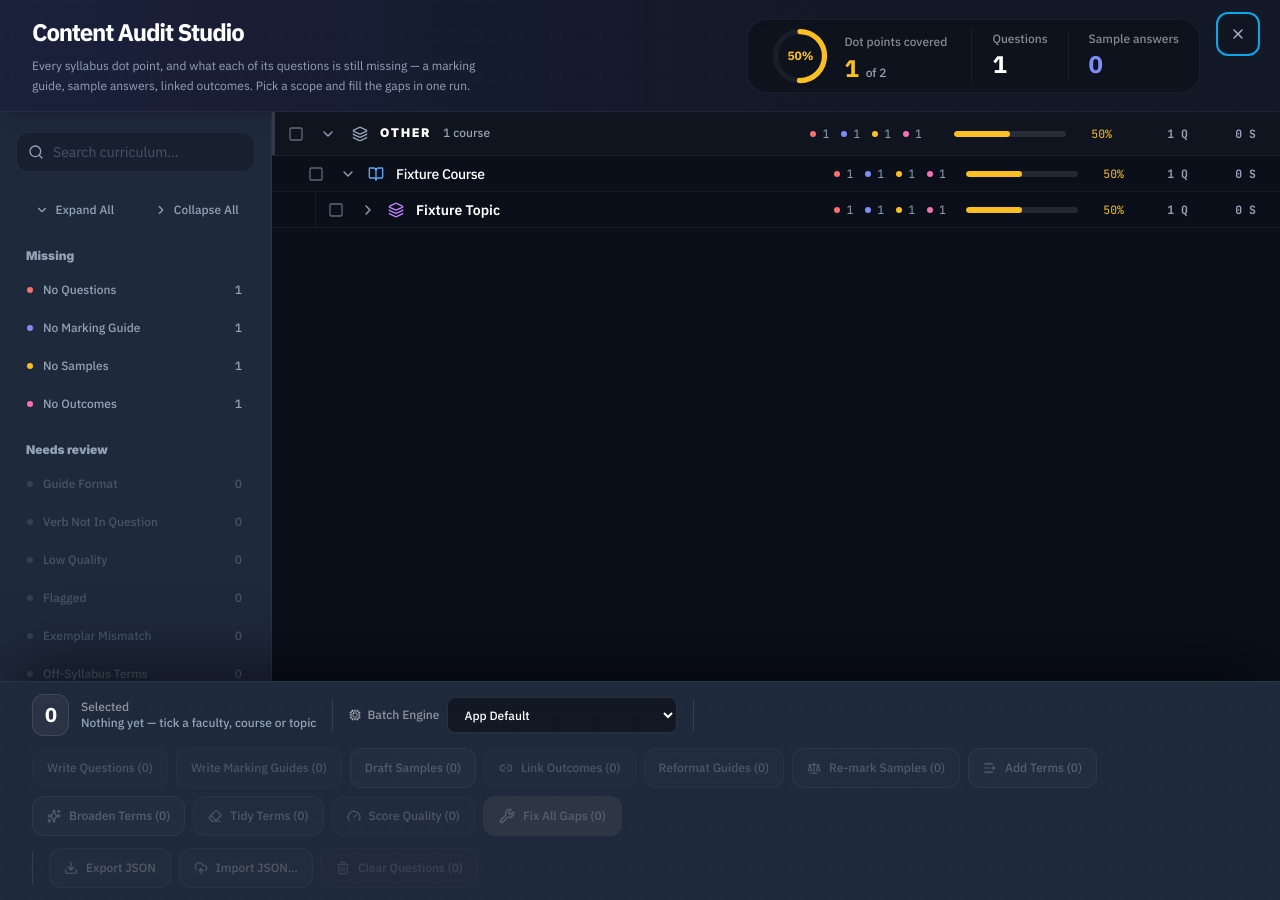
Test: ContentAuditModal — gap visibility and batch targeting › clears the selection from the toolbar
This screenshot has width=1280, height=900.
Click the button named "Select Fixture Course" at (316,174), box [308,166,324,182]
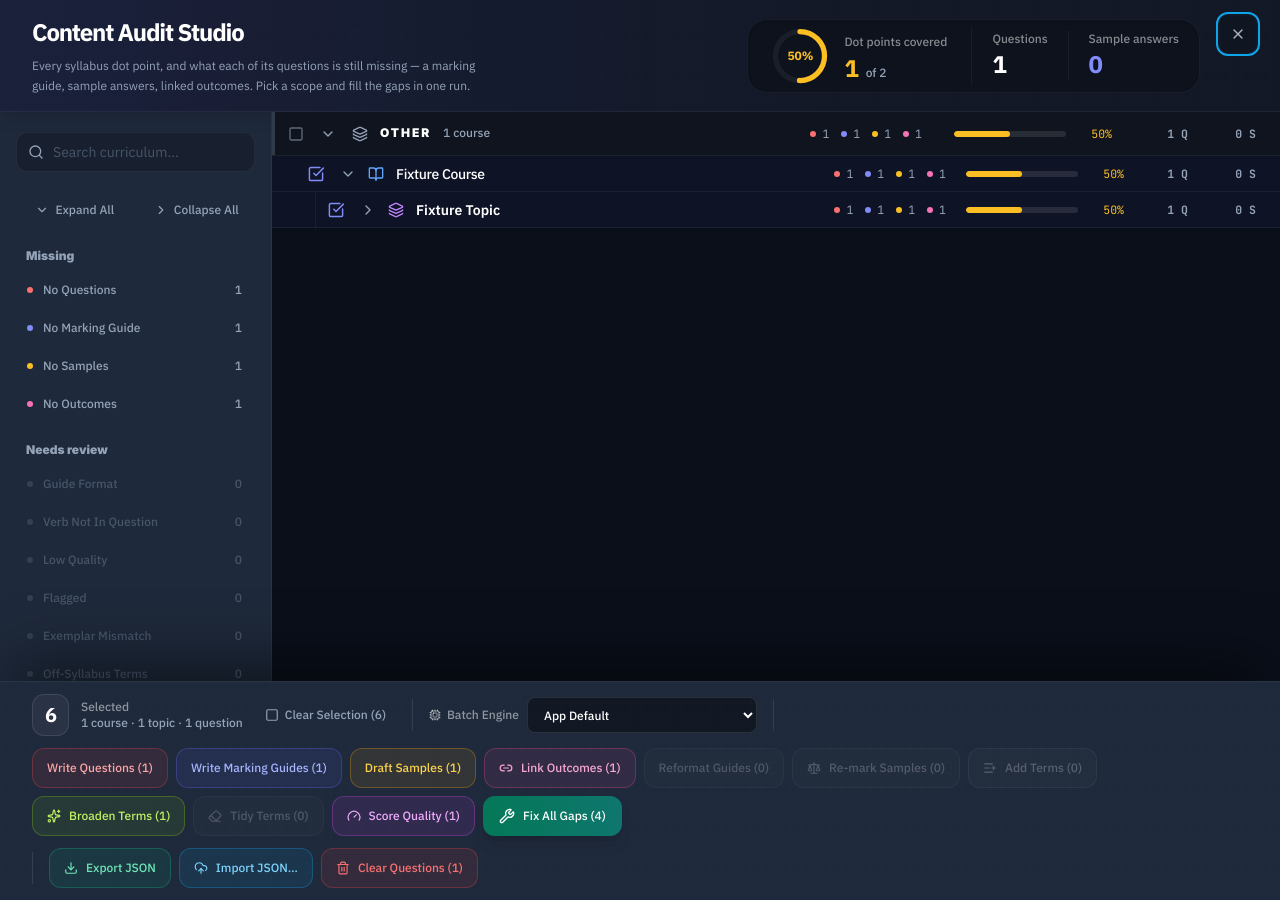
Now the button "Fix All Gaps (4)" is shown, box [483,796,622,836]
Click the button "Clear Selection (6)" at (325,715), box [255,699,396,731]
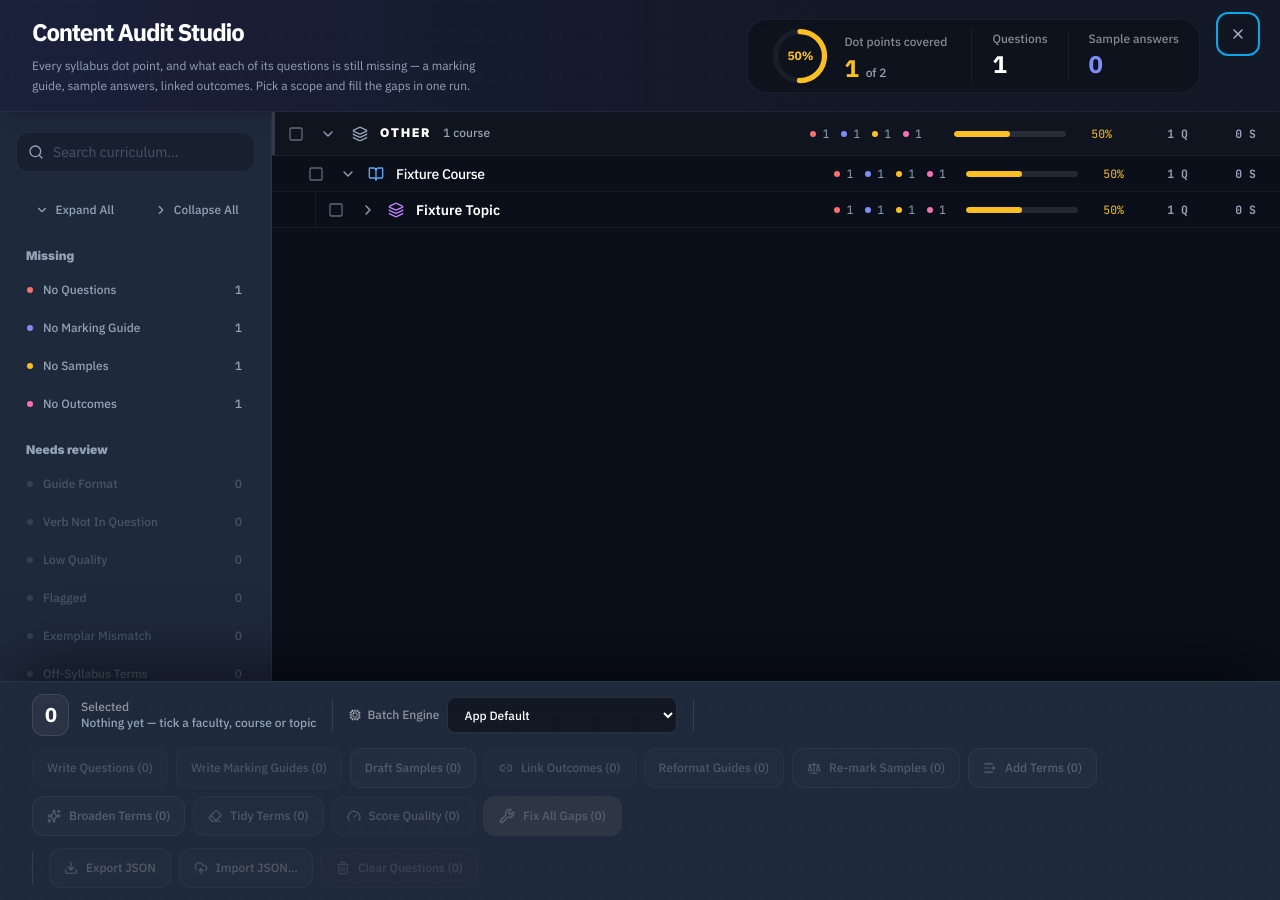
Now the button "Fix All Gaps (0)" is shown, box [483,796,622,836]
Now the button "Clear Selection" is gone
